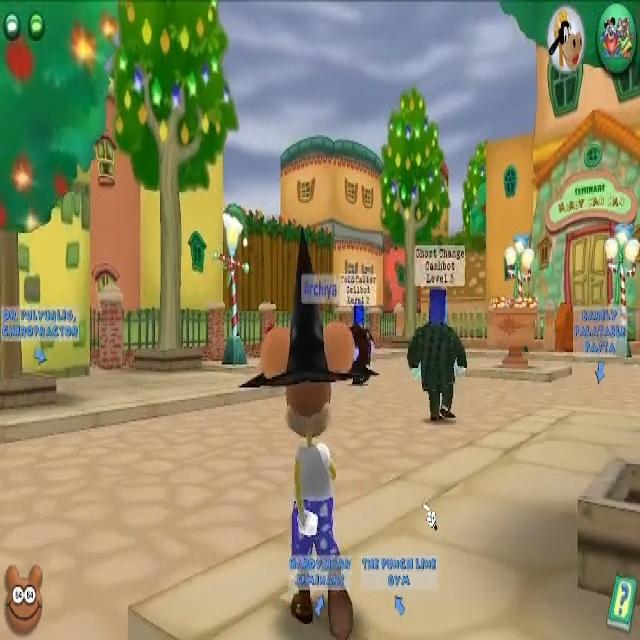coldcaller: (340, 274, 379, 388)
shortchange: (407, 247, 468, 425)
